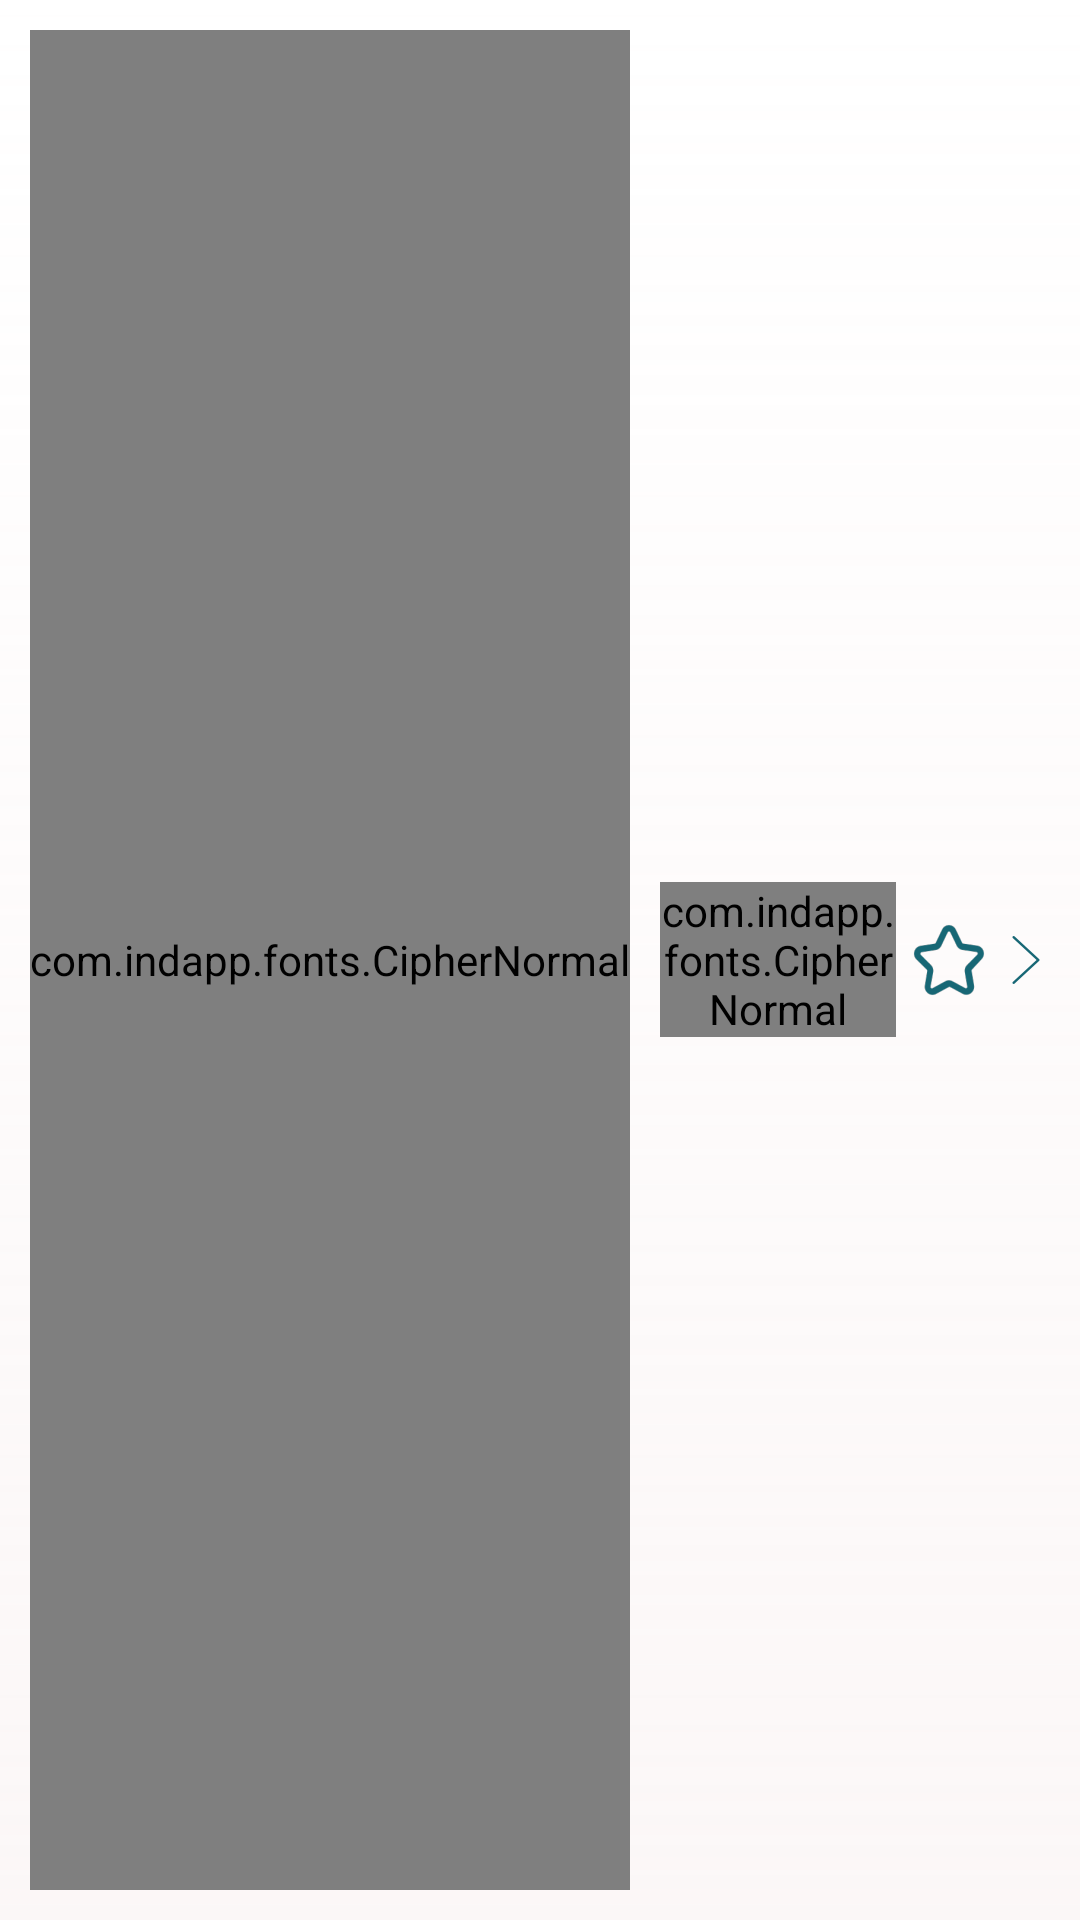

Where to tap for icons on this 1080x1920 app screen, as point (x, y):
favorite dua unesl: point (949, 960)
right arrow: point (1026, 960)
